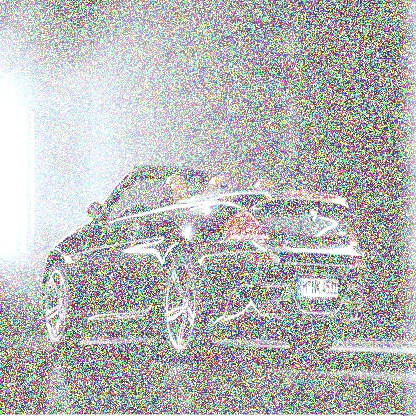Vehicle: (41, 164, 368, 364)
